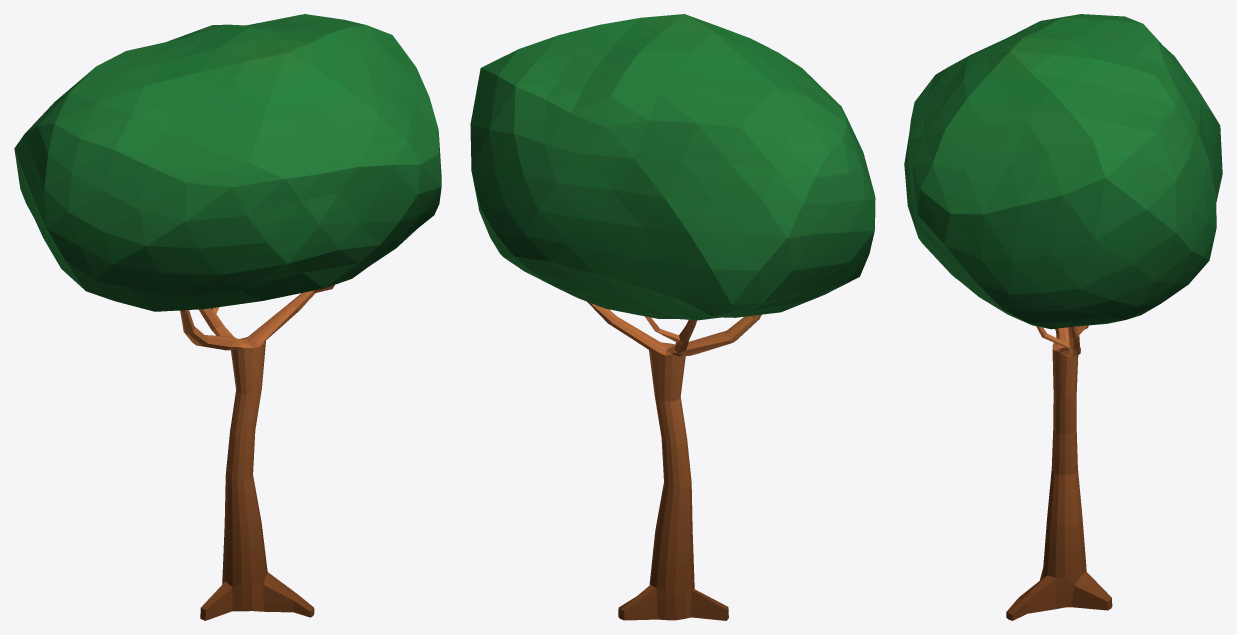
Rendered from tree1.glb.
3 renders of one model, left to right at view 1: azimuth 30°, elevation 25°; view 2: azimuth 150°, elevation 25°; view 3: azimuth 270°, elevation 25°, orthographic. The views are drawn at different scales.
Parts seen in each view (by area): view 1: tree1; view 2: tree1; view 3: tree1.
Boxes of the visible parts, x1,y1,x2,y2 form: tree1: [14, 14, 441, 620]; tree1: [470, 14, 875, 620]; tree1: [904, 14, 1222, 620].
Size of the model in its own units: 6.5 by 9.31 by 4.82.
Materials: 1 (1 with a texture image).
